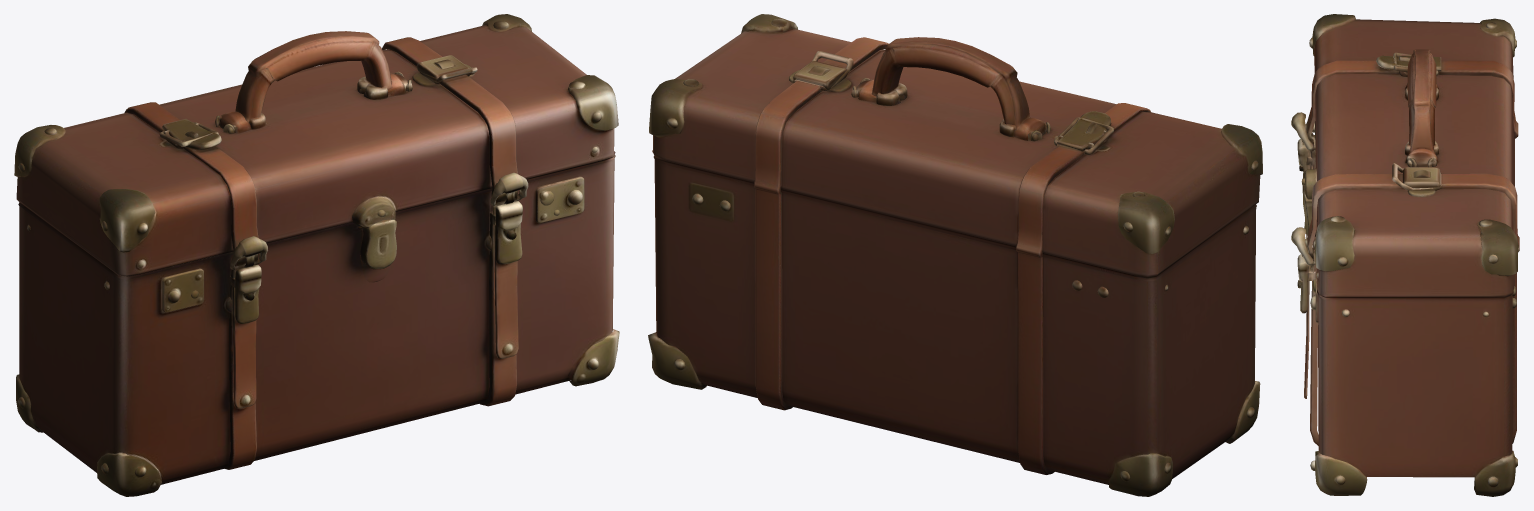
Rendered from suitcase.glb.
The picture shows the model from 3 angles, left to right: view 1: azimuth 30°, elevation 25°; view 2: azimuth 150°, elevation 25°; view 3: azimuth 270°, elevation 25°; orthographic projection. The views are drawn at different scales.
Parts seen in each view (by area): view 1: tripo_32646f10_b685_49b7_a34a_f1baf6472dd2; view 2: tripo_32646f10_b685_49b7_a34a_f1baf6472dd2; view 3: tripo_32646f10_b685_49b7_a34a_f1baf6472dd2.
Part boxes in pixels (box(x1,y1,x2,y2)): tripo_32646f10_b685_49b7_a34a_f1baf6472dd2: box(14, 14, 619, 496); tripo_32646f10_b685_49b7_a34a_f1baf6472dd2: box(648, 14, 1262, 496); tripo_32646f10_b685_49b7_a34a_f1baf6472dd2: box(1291, 14, 1519, 496).
Size of the model in its own units: 0.9995 by 0.6821 by 0.4272.
1 material, 1 textured.
